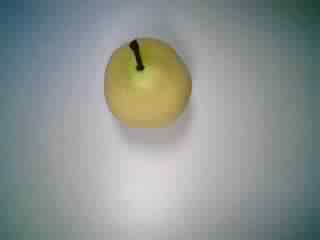pear: (97, 28, 196, 131)
